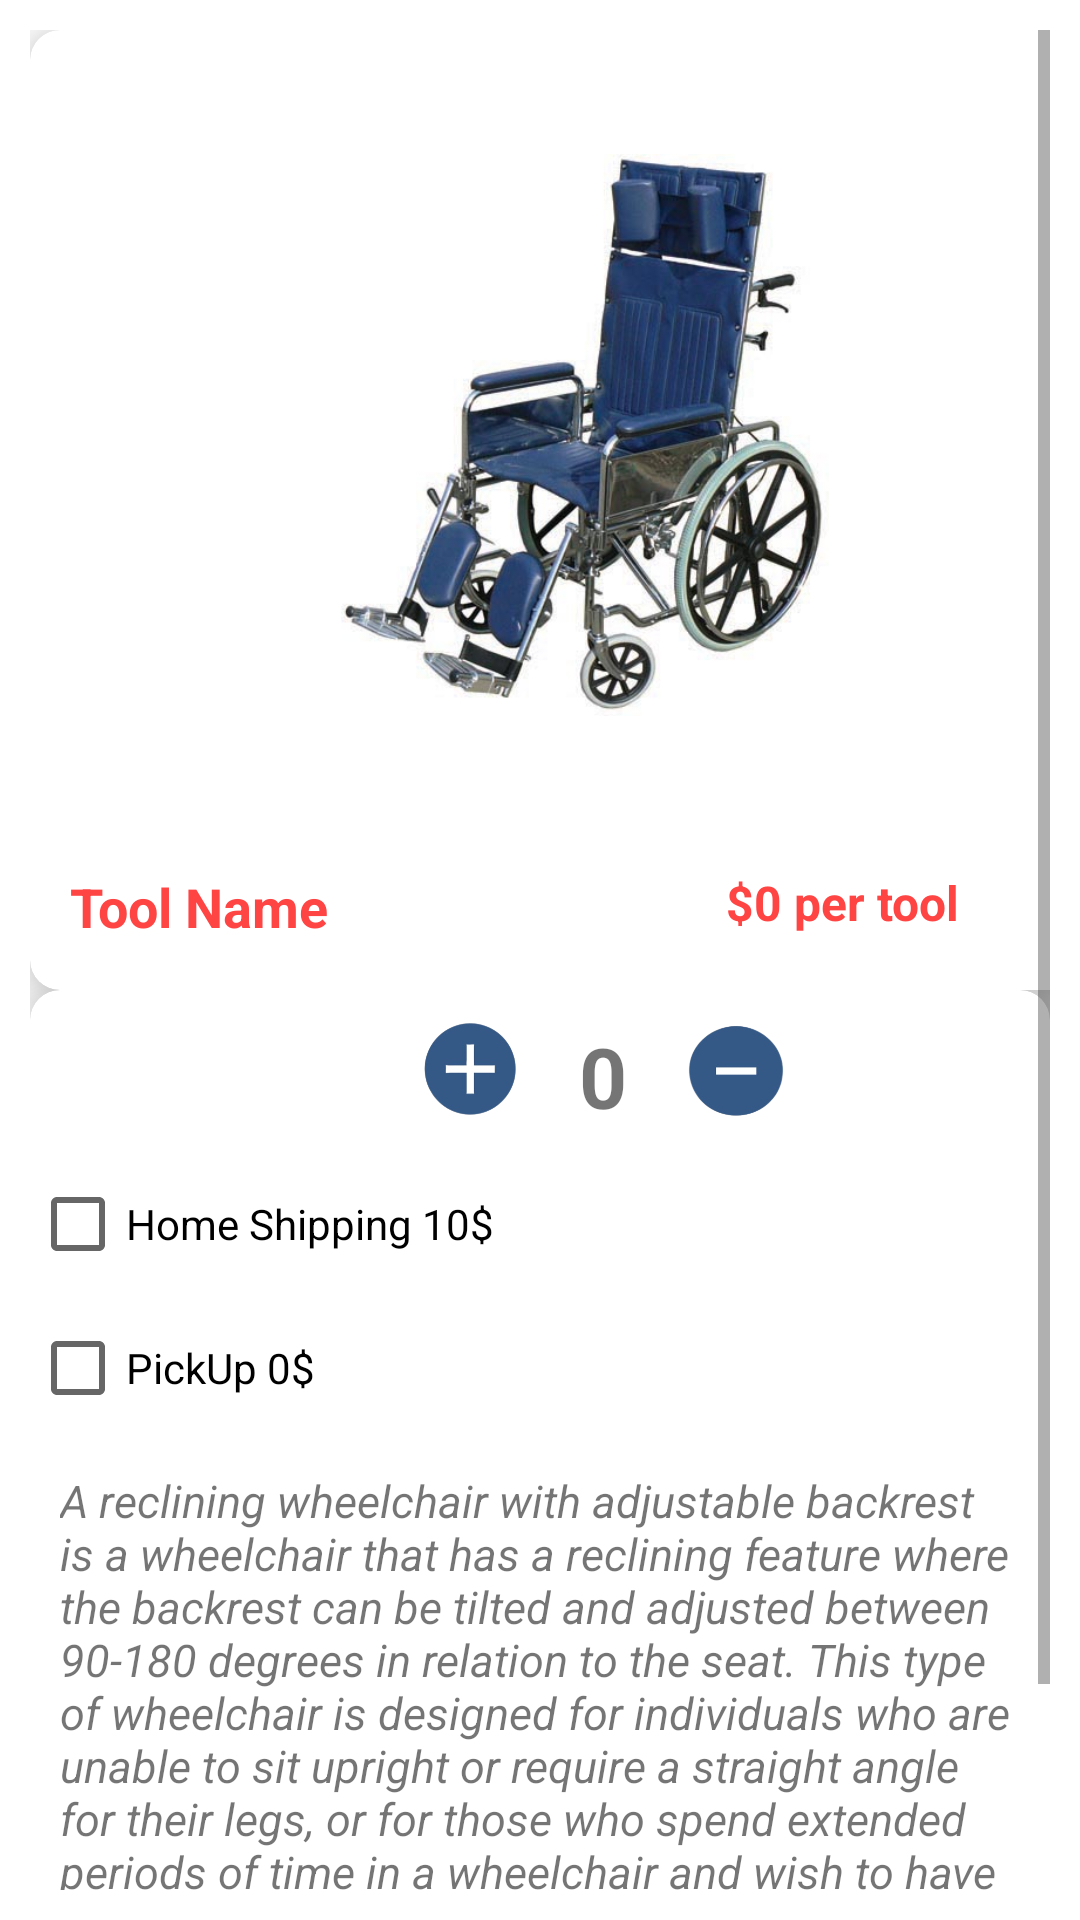

Where icons sit on this 1080 × 1920 app screen, as (x1, y1, x2, y2):
minus: (689, 1026, 783, 1116)
plus: (424, 1023, 516, 1115)
